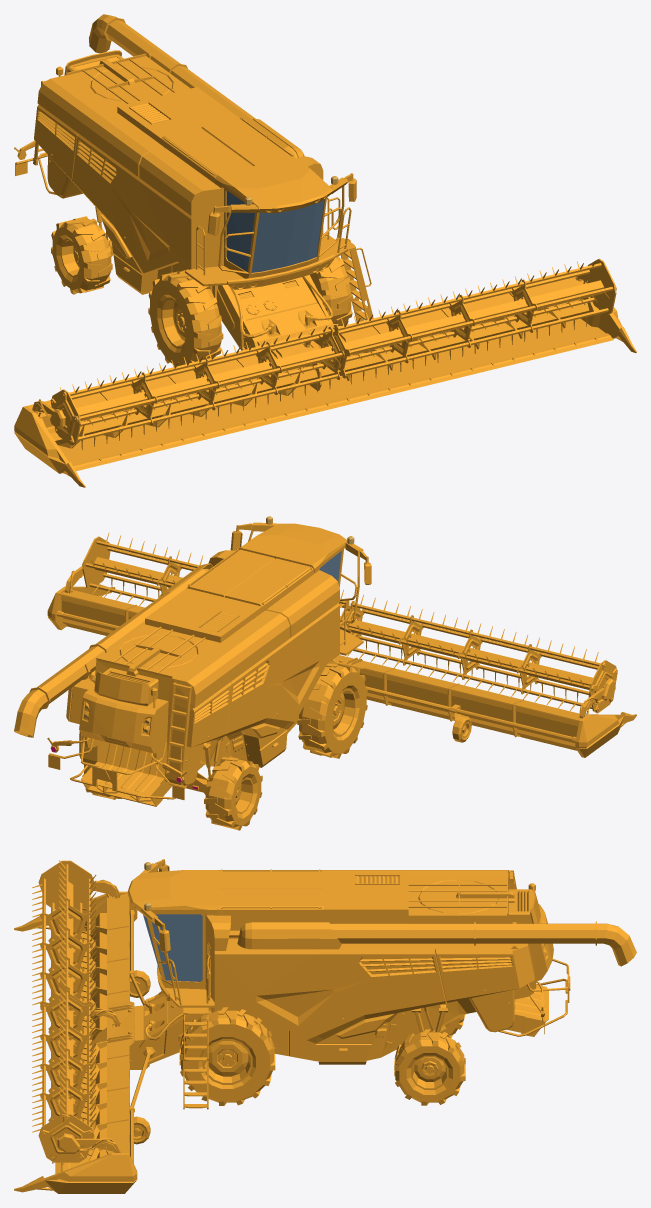
The model's file is SM_Combine_Harvester.fbx.
3 renders of one model, top to bottom at view 1: azimuth 30°, elevation 25°; view 2: azimuth 150°, elevation 25°; view 3: azimuth 270°, elevation 25°, orthographic. The views are drawn at different scales.
Visible parts, largest first — view 1: combine-harvester-base, combine-harvester-cutterbar, combine-harvester-reel, combine-harvester-wheels-fr, combine-harvester-auger, combine-harvester-wheel-br, combine-harvester-outlet, combine-harvester-ladder; view 2: combine-harvester-base, combine-harvester-cutterbar, combine-harvester-reel, combine-harvester-wheels-fr, combine-harvester-outlet, combine-harvester-wheel-br; view 3: combine-harvester-base, combine-harvester-cutterbar, combine-harvester-reel, combine-harvester-outlet, combine-harvester-wheels-fr, combine-harvester-wheel-bl, combine-harvester-auger, combine-harvester-ladder, combine-harvester-cutterbar-wheels.
Part boxes in pixels (x1,y1,x2,y2): combine-harvester-base: (14, 50, 356, 306); combine-harvester-cutterbar: (14, 266, 636, 487); combine-harvester-reel: (50, 258, 616, 449); combine-harvester-wheels-fr: (148, 256, 352, 366); combine-harvester-auger: (47, 299, 589, 448); combine-harvester-wheel-br: (51, 216, 112, 294); combine-harvester-outlet: (89, 14, 304, 158); combine-harvester-ladder: (337, 238, 373, 321); combine-harvester-base: (47, 516, 371, 806); combine-harvester-cutterbar: (47, 566, 636, 757); combine-harvester-reel: (82, 533, 617, 713); combine-harvester-wheels-fr: (297, 661, 367, 758); combine-harvester-outlet: (14, 563, 212, 737); combine-harvester-wheel-br: (204, 756, 262, 830); combine-harvester-base: (127, 859, 570, 1064); combine-harvester-cutterbar: (14, 879, 211, 1193); combine-harvester-reel: (32, 860, 96, 1163); combine-harvester-outlet: (237, 921, 636, 966); combine-harvester-wheels-fr: (179, 1007, 275, 1105); combine-harvester-wheel-bl: (394, 1029, 465, 1105); combine-harvester-auger: (89, 913, 106, 1161); combine-harvester-ladder: (183, 1007, 208, 1109); combine-harvester-cutterbar-wheels: (130, 970, 150, 1144).
Size of the model in its own units: 13.8 by 4.46 by 13.48.
